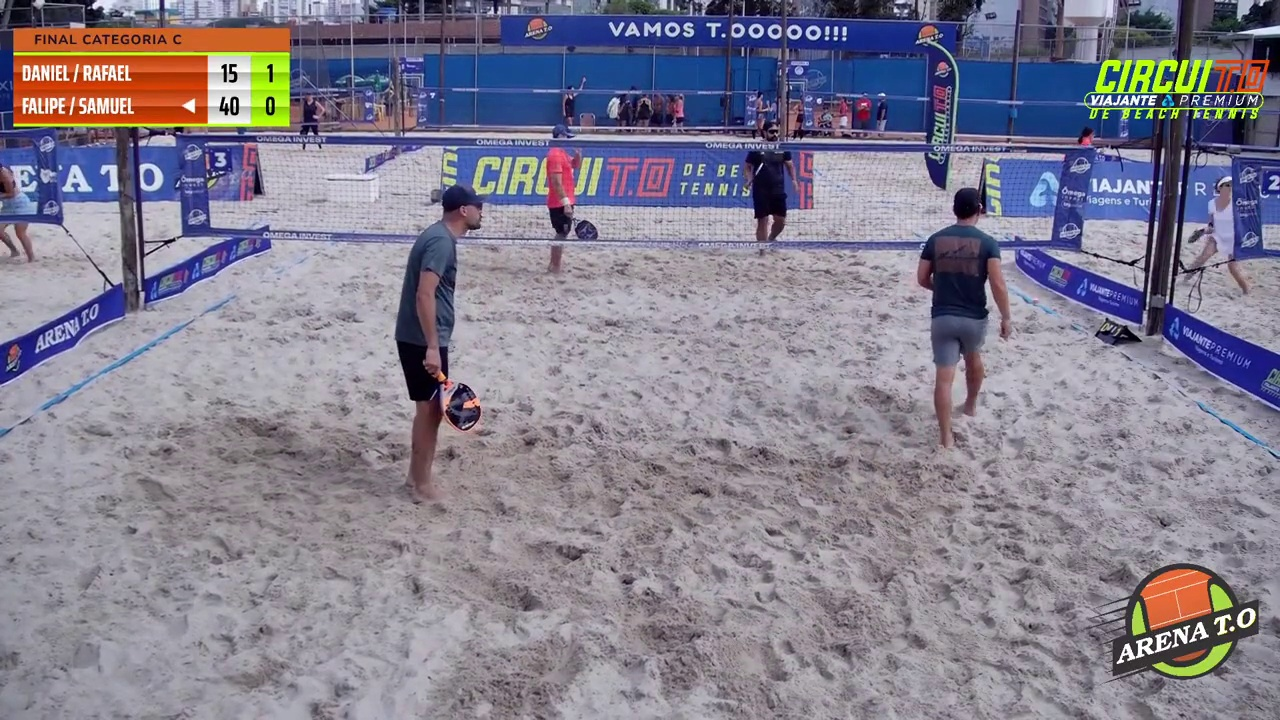court_line: (643, 0, 799, 321)
